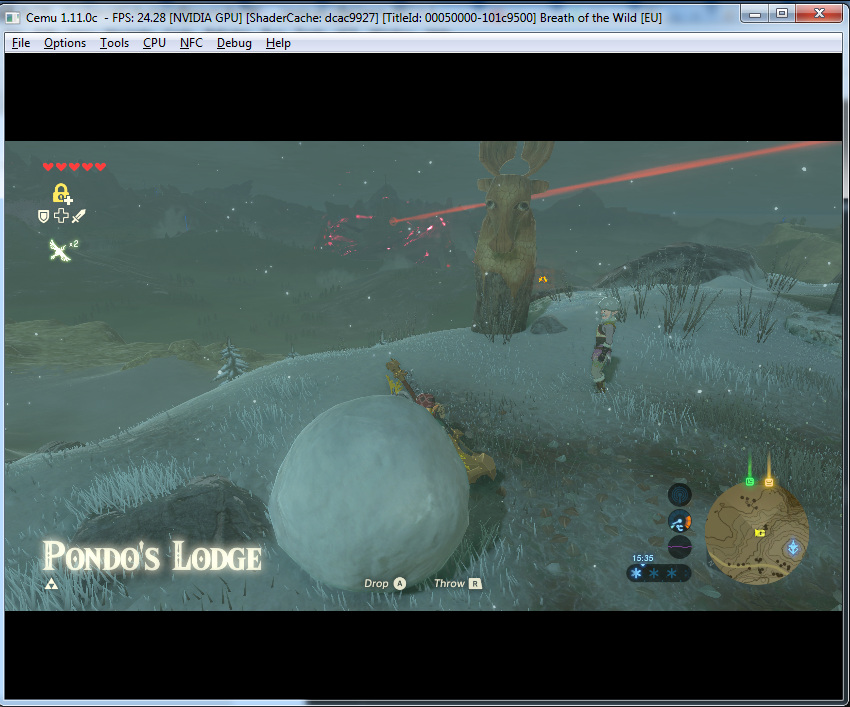dude: (585, 296, 629, 401)
snowball: (271, 384, 485, 596)
totem: (468, 140, 564, 341)
